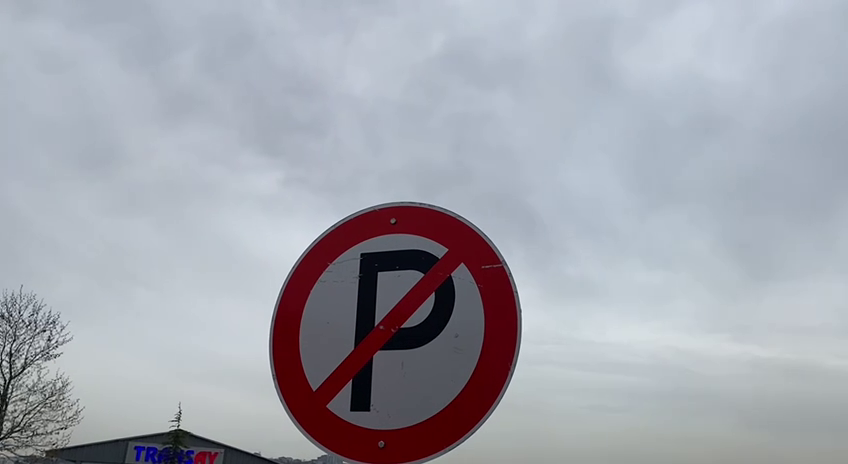noparking: (262, 194, 532, 463)
